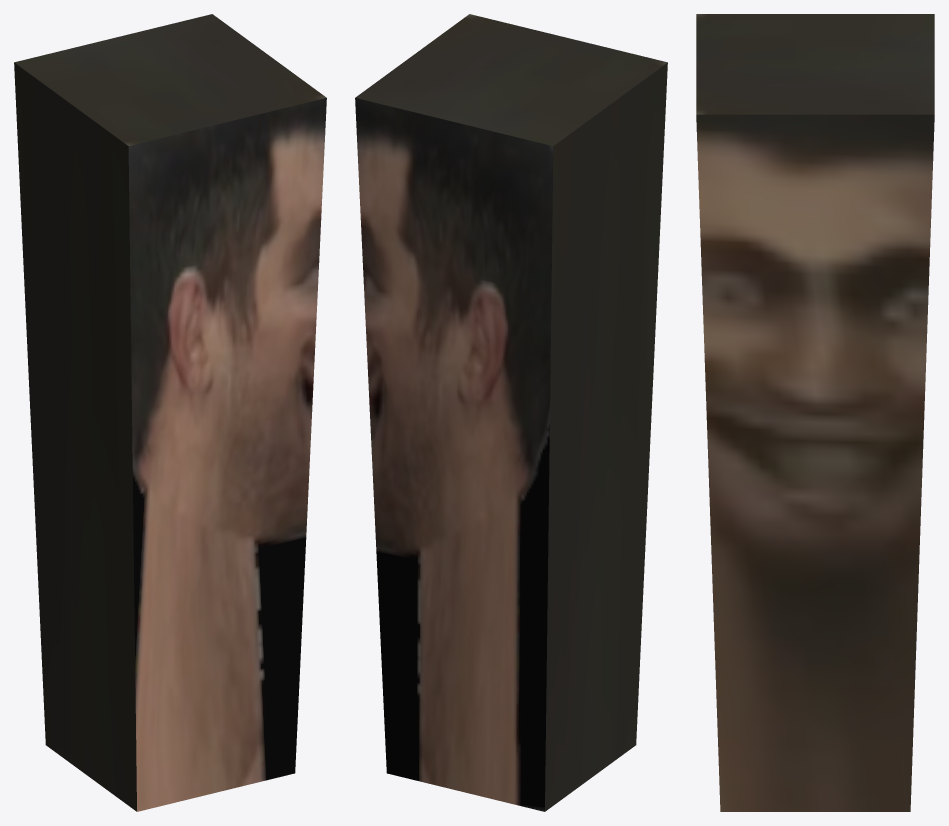
The model's file is skibidi.glb.
3 renders of one model, left to right at view 1: azimuth 30°, elevation 25°; view 2: azimuth 150°, elevation 25°; view 3: azimuth 270°, elevation 25°, orthographic. The views are drawn at different scales.
Visible parts, largest first — view 1: Skibidi; view 2: Skibidi; view 3: Skibidi.
Boxes of the visible parts, x1,y1,x2,y2 form: Skibidi: (14,14,326,811); Skibidi: (355,14,667,811); Skibidi: (696,14,934,811).
Bounding box in the file's own units: 0.3202 × 1.05 × 0.3202.
Materials: 1 (1 with a texture image).
